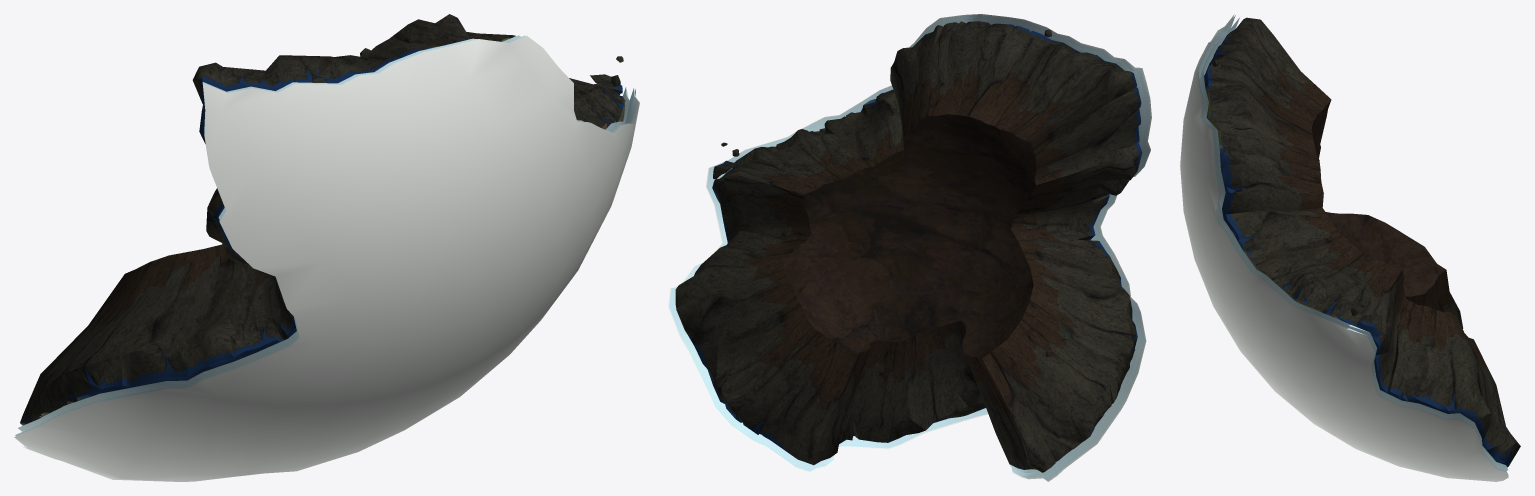
Rendered from Piece 1.fbx.
3 renders of one model, left to right at view 1: azimuth 30°, elevation 25°; view 2: azimuth 150°, elevation 25°; view 3: azimuth 270°, elevation 25°, orthographic. The views are drawn at different scales.
Parts seen in each view (by area): view 1: Piece_1; view 2: Piece_1; view 3: Piece_1.
Boxes of the visible parts, x1,y1,x2,y2 form: Piece_1: [14, 14, 639, 481]; Piece_1: [668, 14, 1151, 481]; Piece_1: [1180, 14, 1520, 481].
Size of the model in its own units: 7915 by 6687 by 5574.
